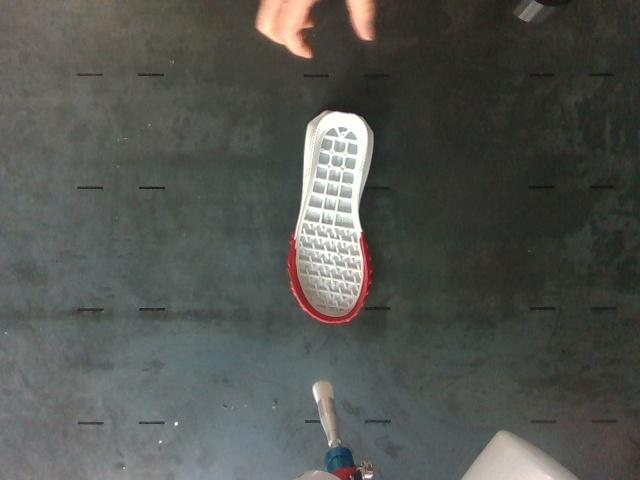shoes: (292, 112, 367, 321)
